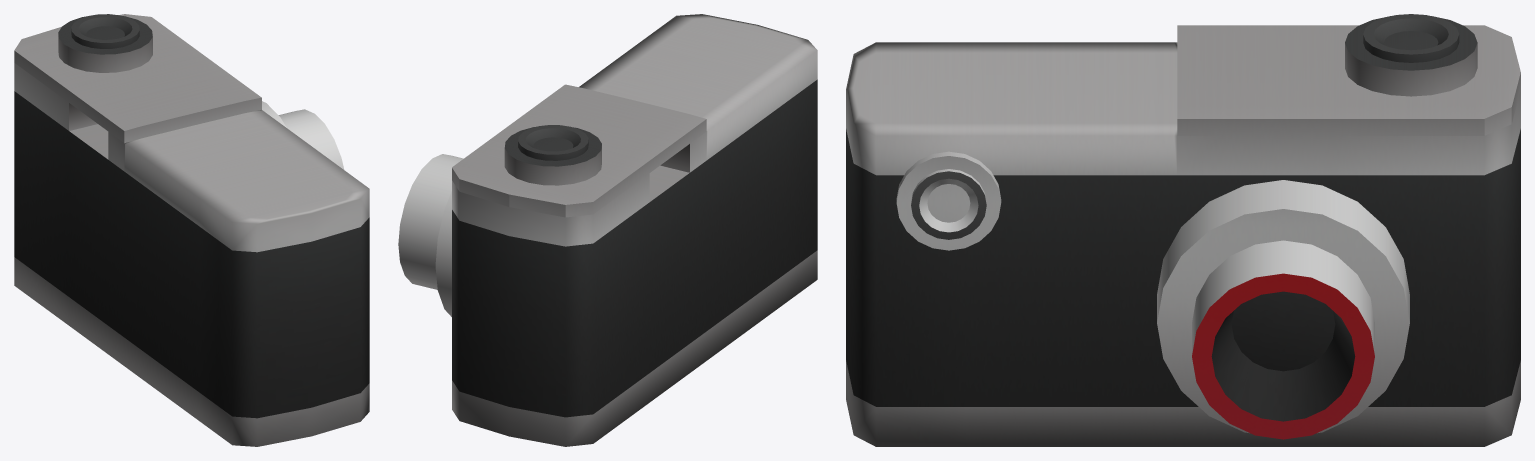
Rendered from Camera.fbx.
3 views of the same model, side by side, from view 1: azimuth 30°, elevation 25°; view 2: azimuth 150°, elevation 25°; view 3: azimuth 270°, elevation 25° (orthographic). The views are drawn at different scales.
Parts seen in each view (by area): view 1: Camera; view 2: Camera; view 3: Camera.
Part boxes in pixels (bbox=[...]): Camera: bbox=[14, 14, 369, 446]; Camera: bbox=[398, 14, 817, 446]; Camera: bbox=[846, 14, 1520, 446].
Bounding box in the file's own units: 1.46 × 1.6 × 2.68.
